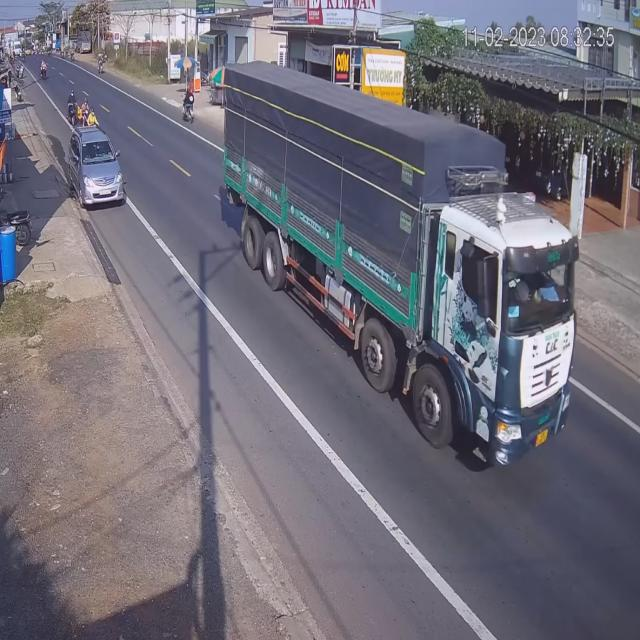car: (68, 130, 125, 210)
motorbike: (68, 92, 90, 128), (182, 90, 195, 125), (68, 90, 79, 126)
truck: (230, 80, 587, 467)
